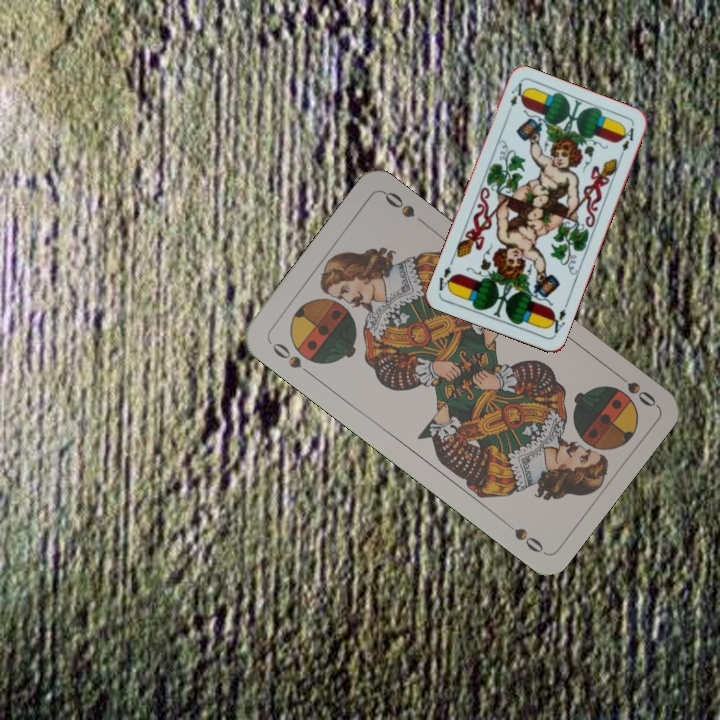EA: (502, 79, 527, 118), (545, 304, 569, 338)
SO: (608, 366, 659, 410), (265, 337, 315, 379)
